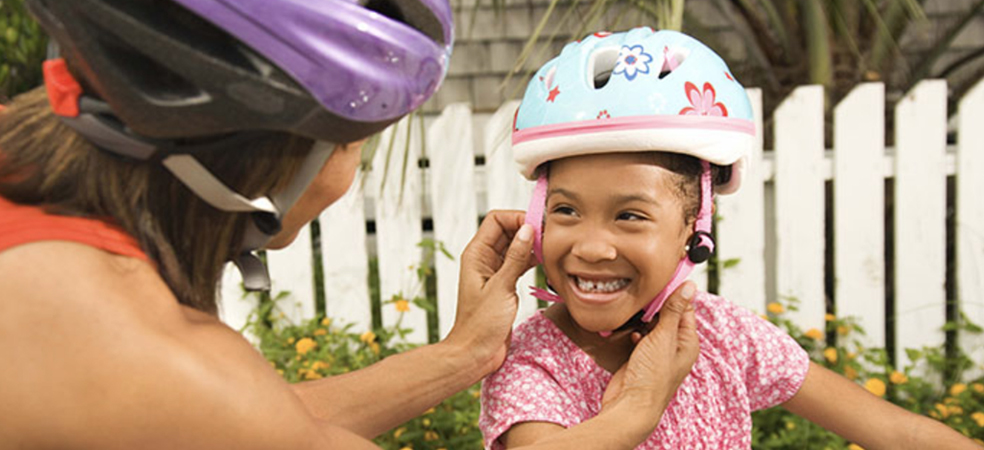helmet: (18, 1, 456, 250), (510, 26, 755, 331)
